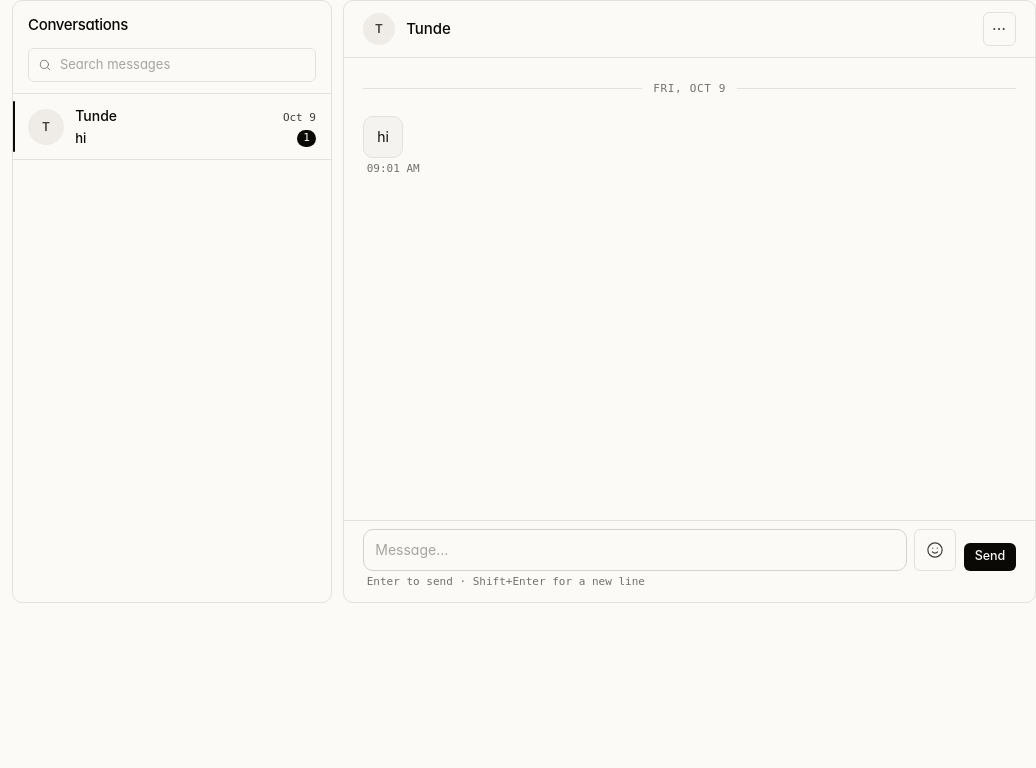
Scenario: MessagingCenter: sending (CONTRACT §6.2) › retries a network failure automatically with the same id, and the server keeps one message
Expected: the text "hi" is shown, [363,116,403,158]
Type "only once" into the text box named "Message ". click: (635, 550)
box: [363,528,907,570]
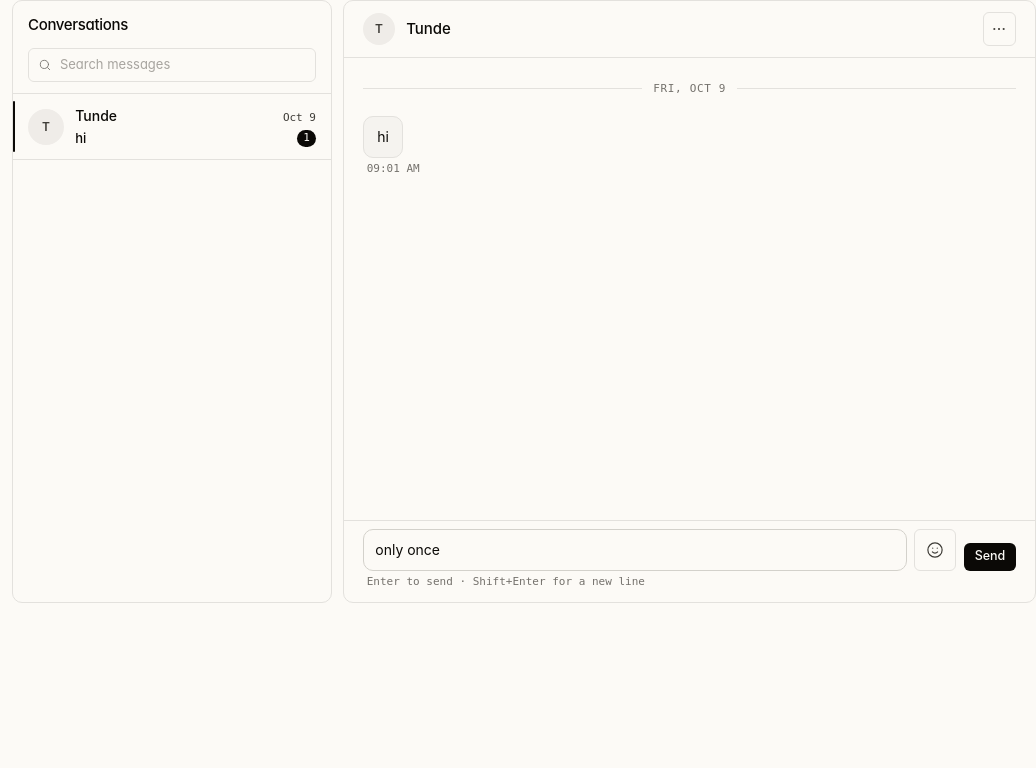
Press Enter in the text box named "Message ", box [363,528,907,570]
Wait 5100 ms
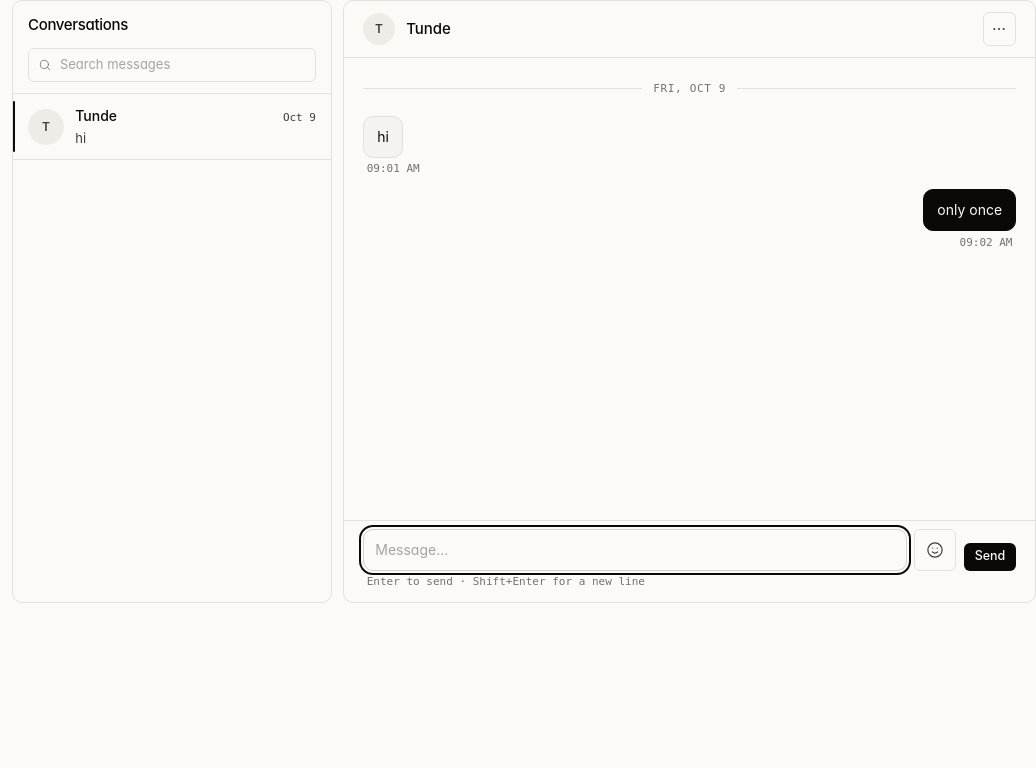
Expected: the text "only once" is shown once, [923,189,1016,231]
